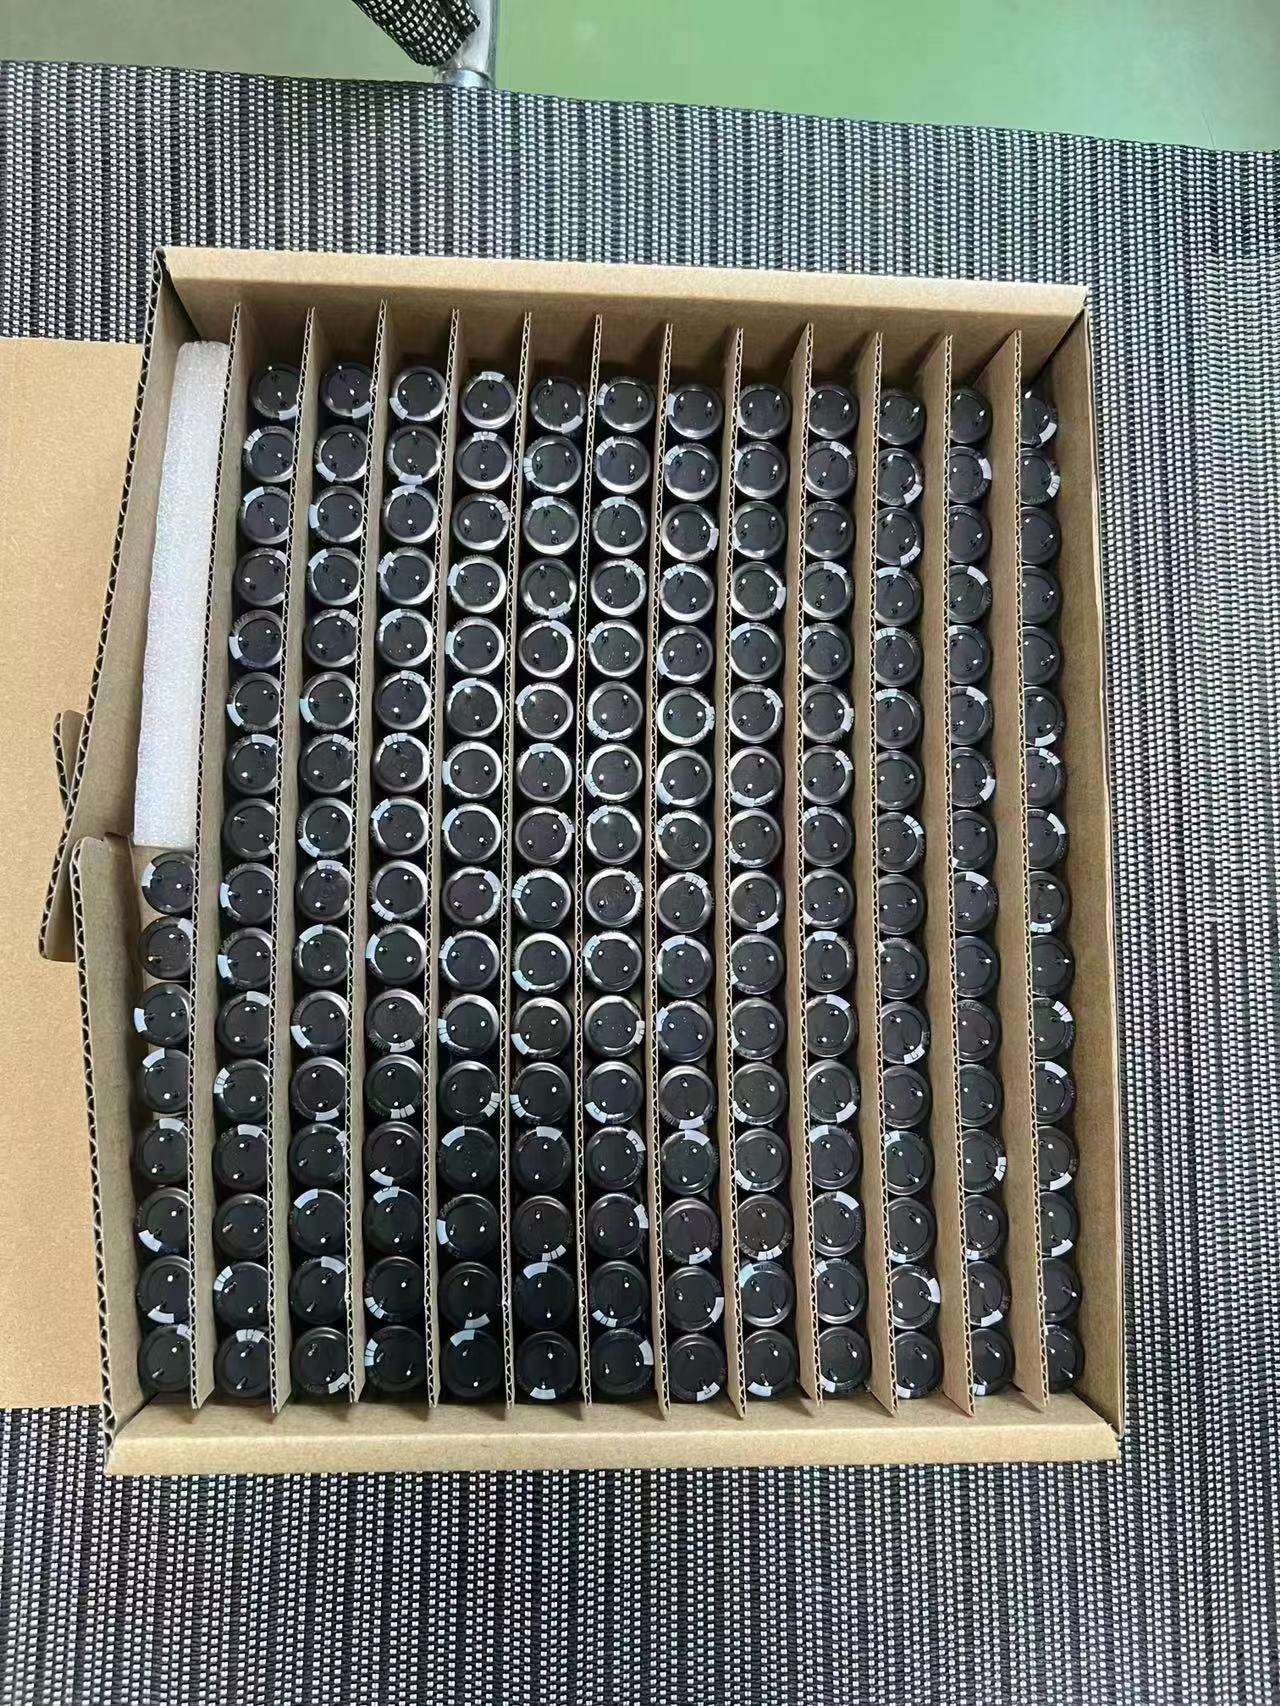battery: (385, 1260, 456, 1328), (506, 1260, 575, 1327), (633, 1265, 706, 1330), (571, 1262, 635, 1330), (688, 1147, 761, 1205), (319, 1260, 382, 1326), (702, 1260, 765, 1326), (382, 1199, 450, 1260), (497, 1199, 571, 1254), (371, 977, 440, 1037), (571, 1203, 633, 1265), (683, 1032, 748, 1092), (822, 1252, 879, 1317), (258, 1265, 319, 1327), (382, 1140, 441, 1203), (563, 1032, 627, 1090), (502, 977, 565, 1034), (321, 1206, 381, 1265), (378, 1038, 437, 1097), (245, 973, 300, 1037), (565, 1147, 631, 1199), (500, 1145, 567, 1196), (883, 1254, 945, 1309), (452, 1262, 508, 1322), (882, 1195, 938, 1254), (631, 1032, 687, 1090), (762, 1196, 819, 1254), (258, 1153, 313, 1213), (558, 977, 617, 1032), (871, 1028, 926, 1088), (746, 1088, 808, 1140), (628, 1149, 691, 1201), (635, 1205, 698, 1254), (692, 1206, 756, 1256), (441, 1030, 496, 1086), (317, 980, 371, 1038), (826, 1195, 879, 1253), (680, 980, 739, 1032), (691, 1096, 752, 1147), (817, 1141, 878, 1192), (744, 980, 805, 1030), (319, 1037, 372, 1093), (259, 1210, 317, 1262), (506, 1088, 561, 1141), (941, 1023, 990, 1084), (627, 1096, 688, 1143), (804, 975, 858, 1028), (674, 444, 723, 501), (313, 825, 371, 875), (445, 975, 495, 1032), (878, 1082, 928, 1140), (569, 1097, 628, 1145), (618, 980, 678, 1028), (746, 1034, 805, 1082), (678, 925, 731, 977), (441, 1092, 496, 1143), (315, 932, 371, 981), (448, 1206, 497, 1262), (378, 1098, 441, 1143), (952, 1191, 996, 1254), (737, 924, 796, 971), (255, 1034, 303, 1093), (750, 1149, 815, 1192), (769, 1262, 822, 1315), (504, 1037, 559, 1086), (448, 1151, 504, 1199), (670, 768, 727, 815), (861, 756, 908, 813), (378, 868, 424, 928), (559, 928, 618, 973), (251, 1098, 303, 1151), (324, 1093, 374, 1147), (441, 499, 489, 554), (440, 653, 489, 706), (917, 647, 967, 699), (680, 871, 730, 924), (998, 971, 1047, 1023), (943, 1082, 991, 1136), (856, 549, 904, 604), (799, 864, 854, 911), (374, 664, 430, 710), (934, 971, 980, 1027), (1002, 1020, 1046, 1078), (1015, 1184, 1058, 1244), (731, 660, 783, 710), (311, 717, 360, 768), (502, 925, 553, 975), (795, 445, 843, 497), (674, 819, 726, 867), (737, 867, 789, 916), (867, 864, 916, 917), (614, 710, 662, 764), (879, 1143, 934, 1188), (313, 665, 363, 715), (871, 977, 921, 1027), (558, 717, 606, 768), (867, 924, 916, 975), (817, 1092, 869, 1140), (321, 558, 367, 612), (557, 772, 610, 817), (804, 917, 850, 971), (813, 1032, 867, 1078), (735, 444, 780, 499), (959, 1256, 1002, 1312), (799, 656, 840, 714), (1004, 917, 1046, 975), (441, 872, 491, 921), (382, 819, 428, 871), (948, 1137, 994, 1190), (1021, 1249, 1061, 1308), (251, 864, 293, 921), (500, 558, 549, 606), (731, 710, 780, 758), (990, 706, 1030, 764), (317, 768, 360, 821), (614, 667, 670, 708), (497, 661, 545, 710), (382, 928, 430, 975), (937, 921, 977, 977), (913, 600, 963, 645), (319, 882, 368, 928), (618, 446, 662, 499), (246, 930, 293, 977), (437, 765, 485, 811), (561, 823, 609, 868), (618, 819, 667, 864), (674, 557, 723, 601), (321, 450, 364, 501), (387, 444, 430, 495), (1008, 1131, 1051, 1182), (561, 449, 602, 501), (739, 765, 787, 811), (441, 817, 487, 864), (800, 817, 846, 864), (671, 510, 719, 554), (854, 501, 895, 553), (559, 875, 610, 917), (617, 606, 662, 653), (856, 449, 899, 497), (502, 719, 550, 762), (933, 867, 976, 916), (628, 925, 671, 973), (558, 614, 608, 656), (795, 604, 839, 649), (863, 817, 909, 862), (1008, 1086, 1054, 1131), (442, 450, 485, 497), (324, 504, 367, 551), (735, 558, 783, 601), (559, 665, 606, 708), (381, 768, 424, 815), (497, 772, 545, 815), (500, 825, 549, 867), (442, 925, 491, 967), (980, 501, 1021, 551), (976, 440, 1012, 495), (859, 653, 895, 708), (442, 713, 481, 764), (801, 764, 846, 808), (321, 1157, 367, 1201), (678, 715, 719, 762), (739, 505, 780, 554), (671, 614, 721, 653), (986, 549, 1021, 604), (921, 549, 959, 600), (378, 562, 421, 606), (744, 821, 785, 867), (926, 762, 965, 811), (557, 561, 600, 604), (623, 868, 667, 910), (800, 715, 846, 756), (796, 554, 835, 601), (433, 614, 480, 653), (735, 612, 783, 651), (440, 562, 483, 604), (500, 453, 541, 497), (381, 504, 421, 549), (495, 614, 541, 653), (912, 503, 959, 540), (982, 606, 1016, 656), (502, 505, 543, 547), (381, 719, 421, 762), (617, 562, 662, 601), (376, 614, 421, 653), (928, 704, 961, 756), (996, 864, 1033, 911), (565, 512, 606, 553), (682, 667, 722, 708), (859, 714, 902, 753), (856, 608, 893, 653), (995, 764, 1030, 811), (504, 875, 546, 914), (621, 515, 662, 553), (998, 815, 1035, 854), (321, 617, 358, 656), (986, 660, 1025, 695), (930, 821, 967, 858), (922, 449, 952, 493), (805, 508, 838, 547)
